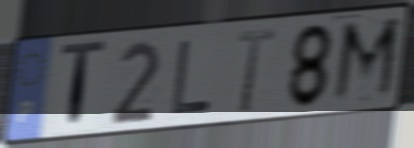2: (110, 37, 164, 128)
8: (285, 22, 336, 111)
L: (169, 37, 214, 118)
M: (329, 14, 404, 108)
T: (57, 37, 109, 134), (235, 25, 278, 117)
